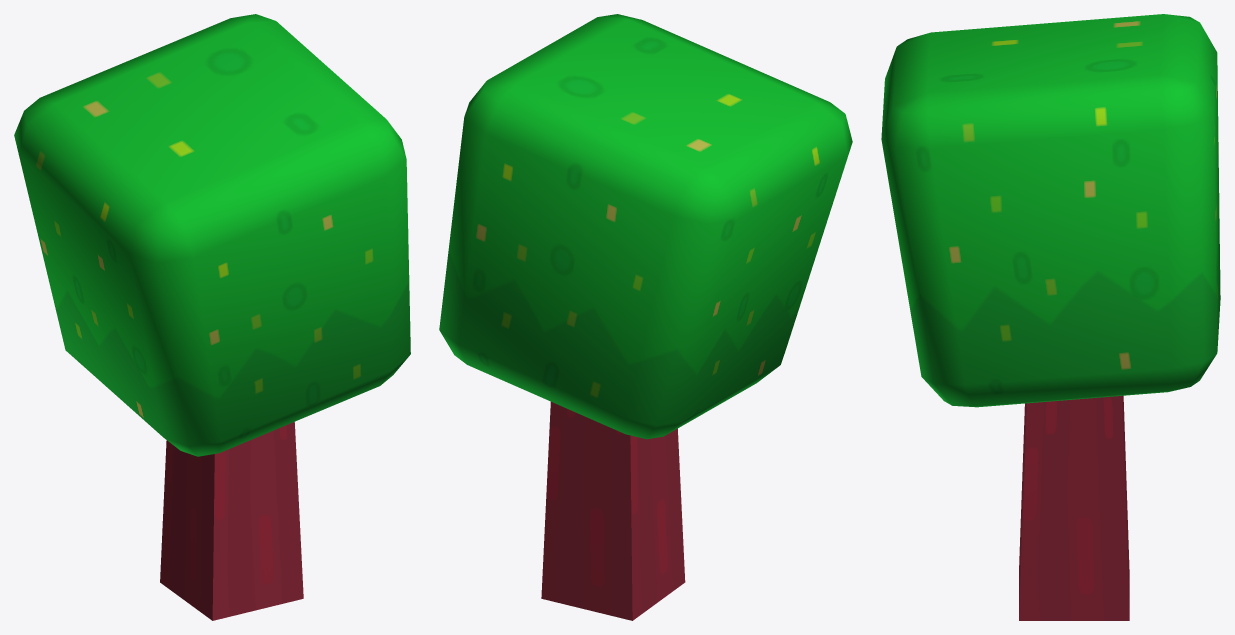
File: BG_002_tree.FBX
3 views of the same model, side by side, from view 1: azimuth 30°, elevation 25°; view 2: azimuth 150°, elevation 25°; view 3: azimuth 270°, elevation 25° (orthographic). The views are drawn at different scales.
Parts seen in each view (by area): view 1: tree_01, bough_01; view 2: tree_01, bough_01; view 3: tree_01, bough_01.
Part boxes in pixels (bbox=[...]): tree_01: bbox=[14, 14, 410, 456]; bough_01: bbox=[160, 422, 303, 620]; tree_01: bbox=[439, 14, 852, 439]; bough_01: bbox=[541, 402, 685, 620]; tree_01: bbox=[881, 14, 1220, 407]; bough_01: bbox=[1019, 395, 1129, 620].
Bounding box in the file's own units: 212 × 364 × 203.
